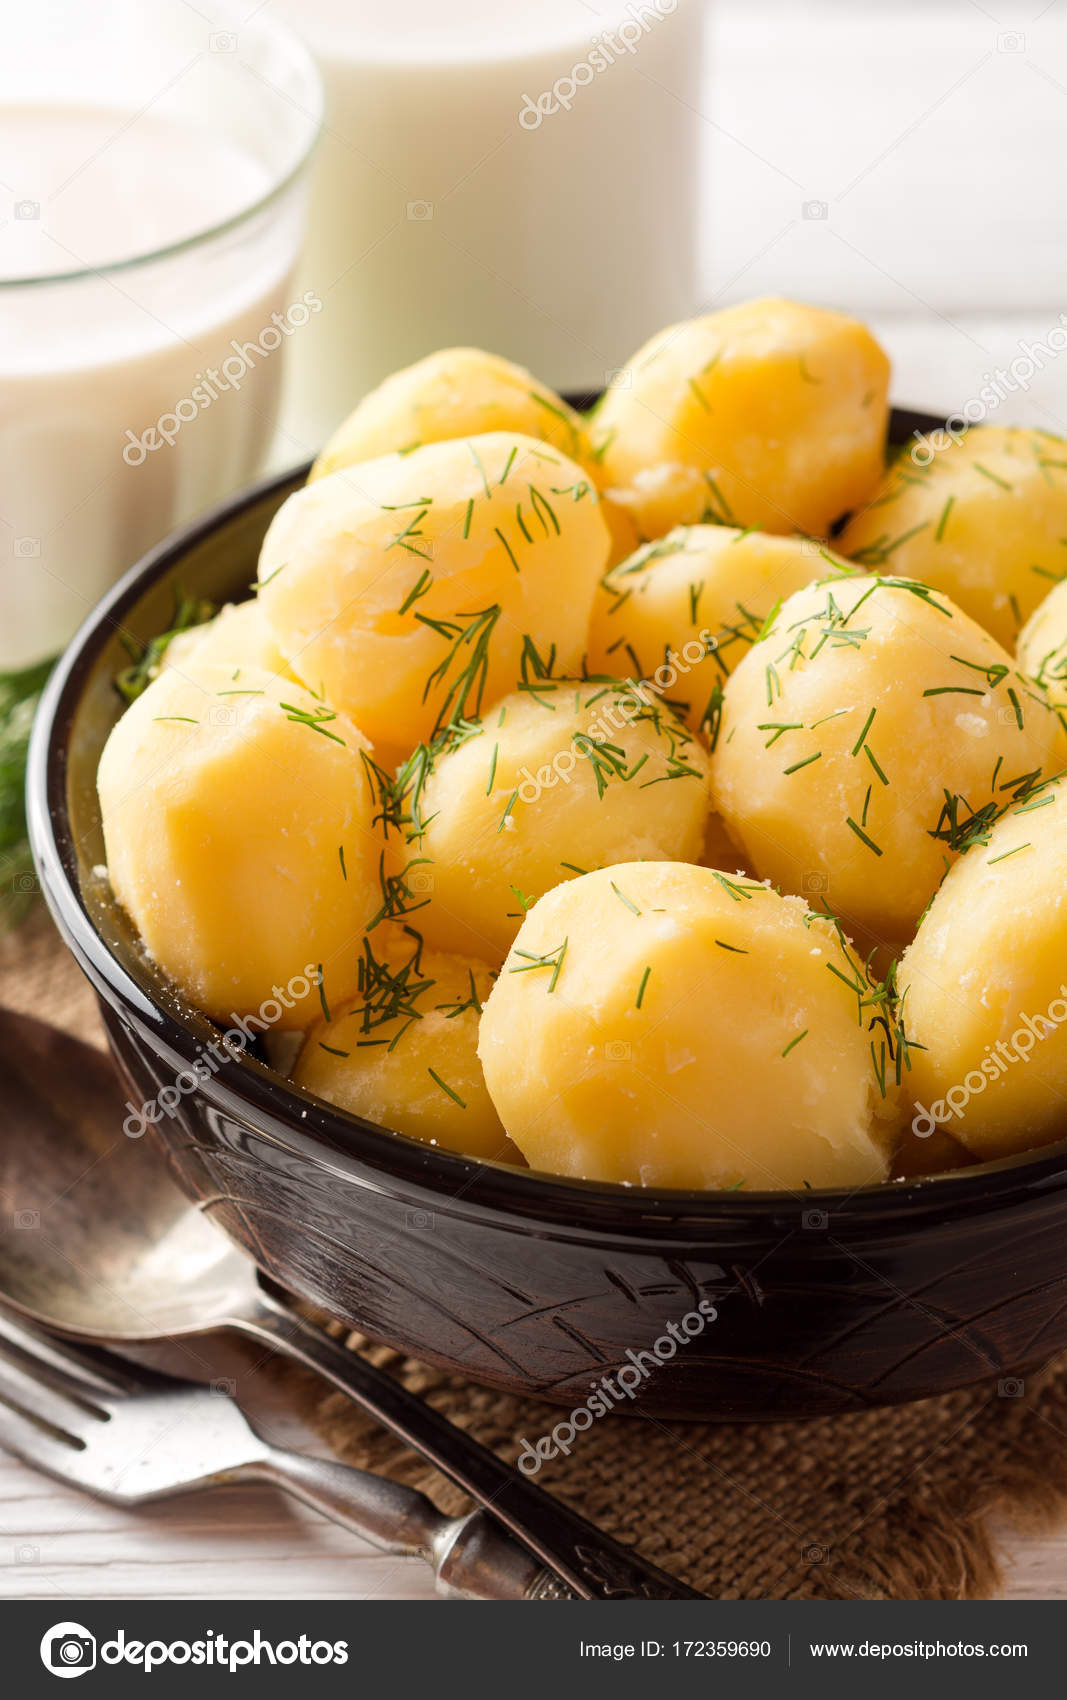boiled potatoes: (395, 433, 1008, 1106)
